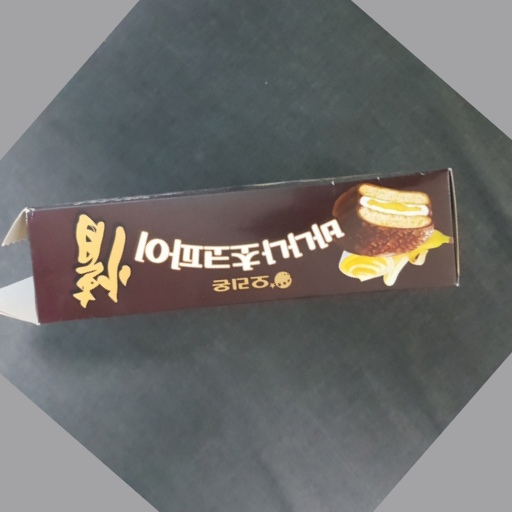Paper_0: (1, 163, 466, 326)
